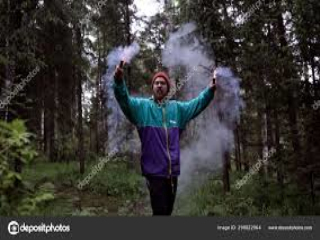smoke: (201, 55, 243, 162), (103, 37, 138, 156)
